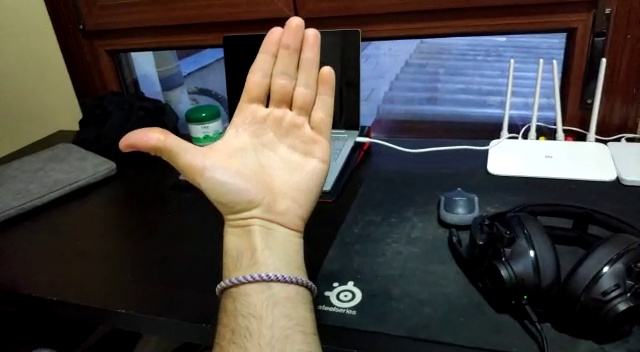Palm: (117, 17, 338, 242)
